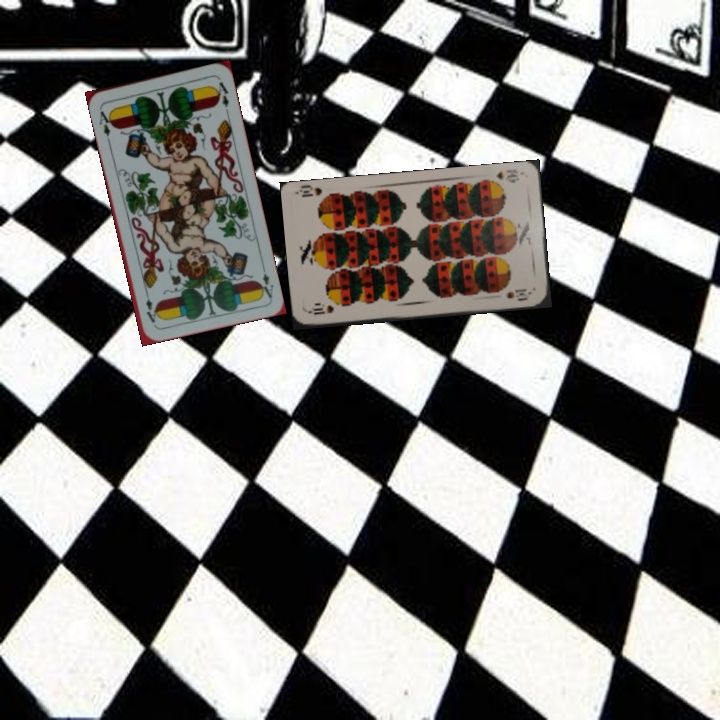EA: (255, 260, 276, 301), (95, 104, 116, 139)
S10: (492, 165, 522, 185), (306, 302, 336, 317)
